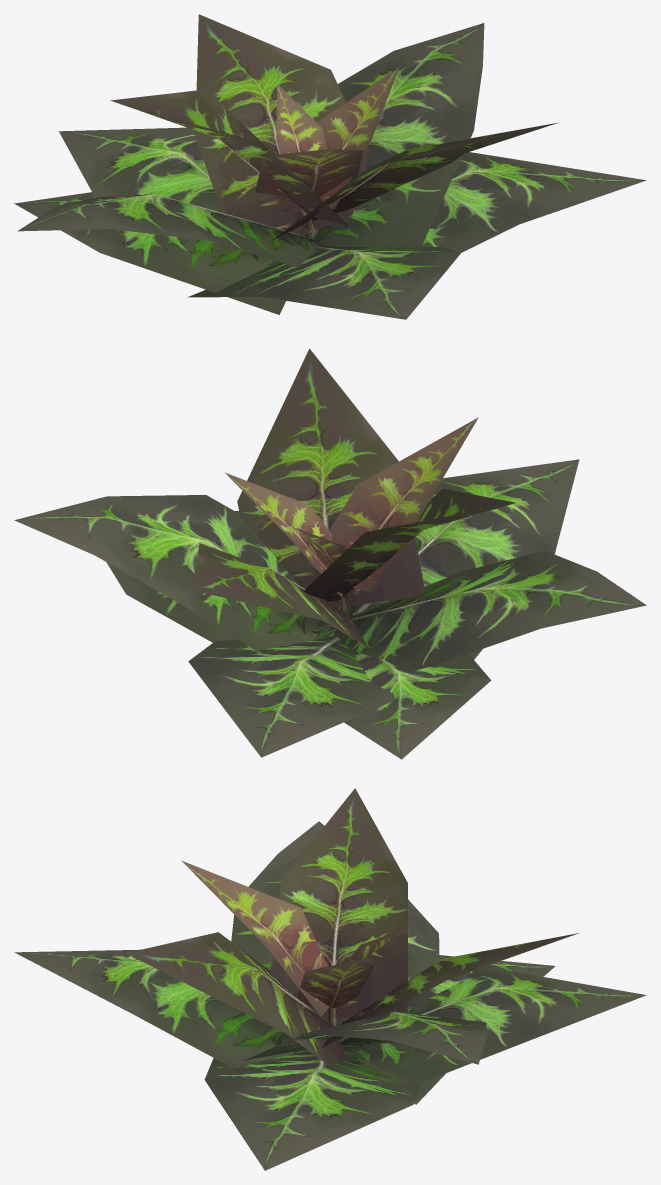
Rendered from plant_01.FBX.
3 views of the same model, one above another, from view 1: azimuth 30°, elevation 25°; view 2: azimuth 150°, elevation 25°; view 3: azimuth 270°, elevation 25° (orthographic). The views are drawn at different scales.
Visible parts, largest first — view 1: plant_01; view 2: plant_01; view 3: plant_01.
Part boxes in pixels (x1,y1,x2,y2): plant_01: (14,14,646,319); plant_01: (14,348,646,759); plant_01: (14,788,646,1170).
Size of the model in its own units: 96.4 by 32.66 by 92.57.
